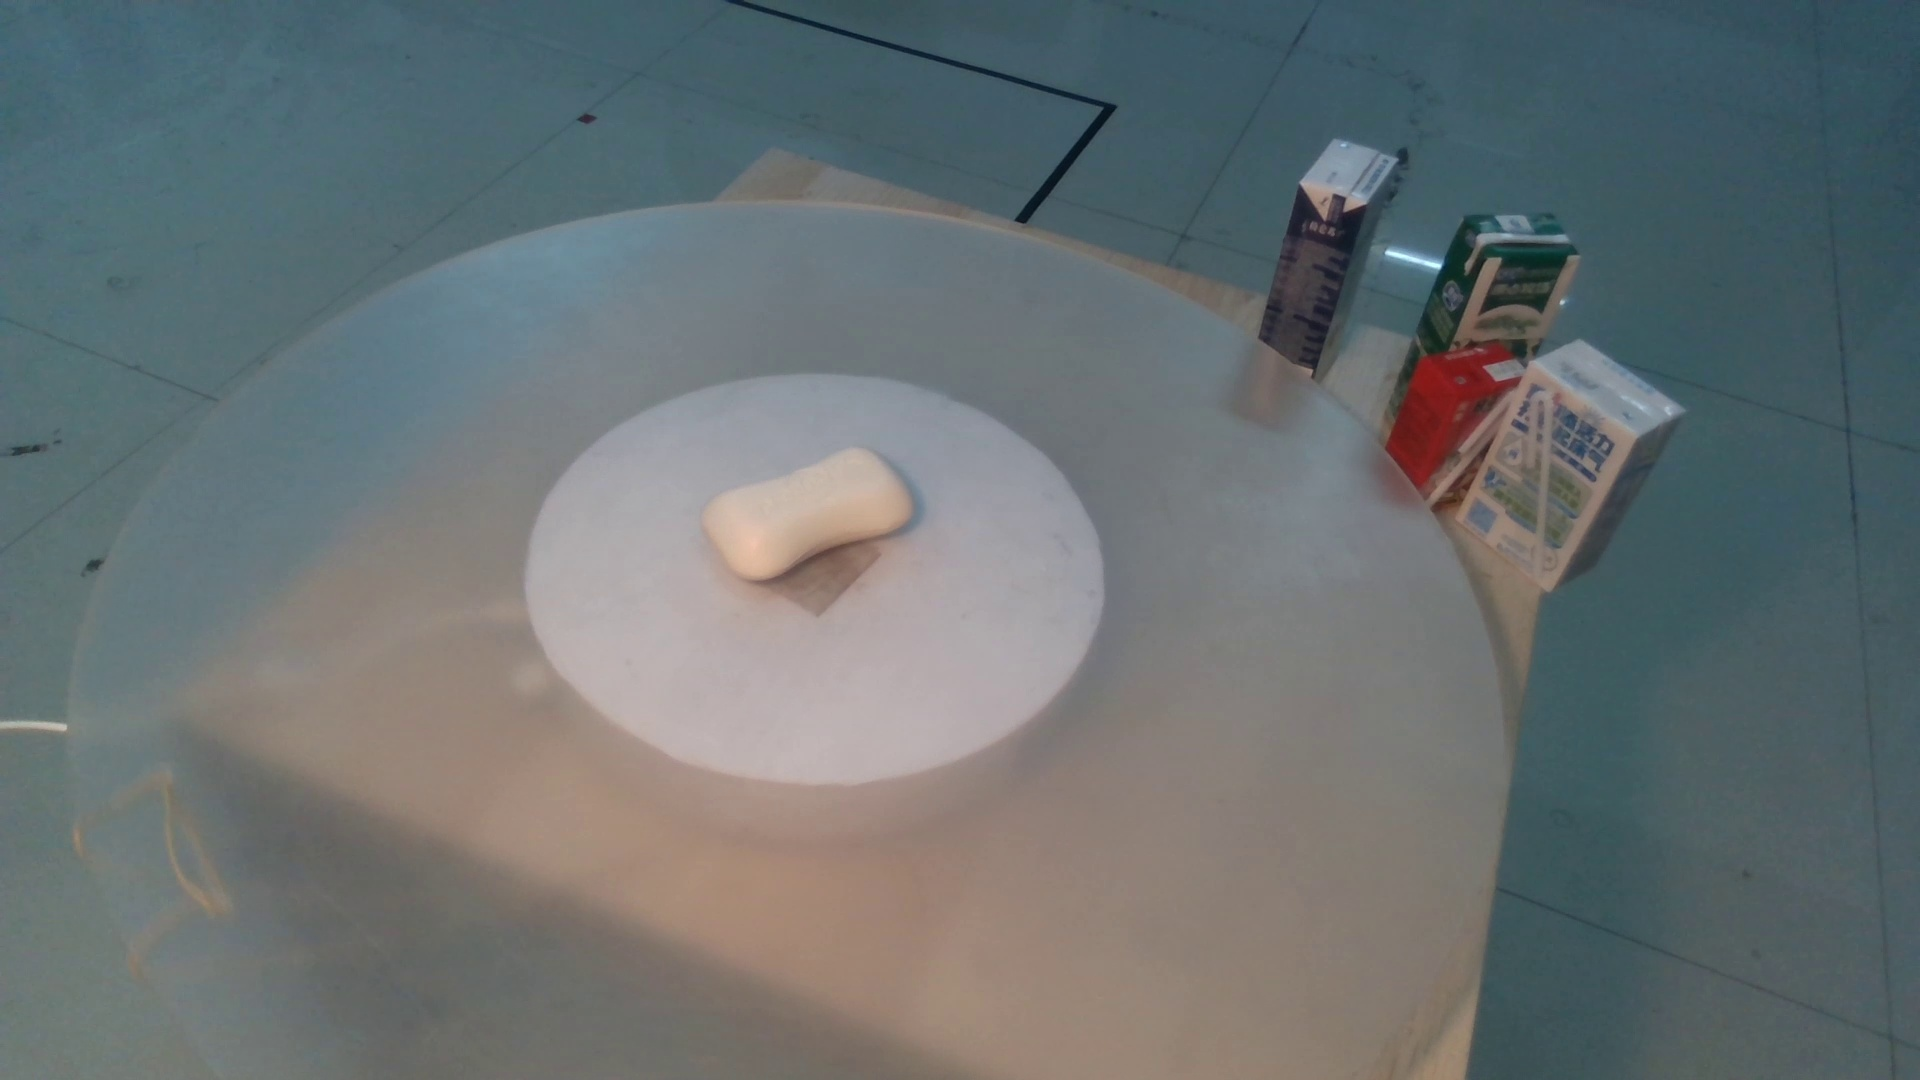CA003_1: (665, 417, 916, 613)
